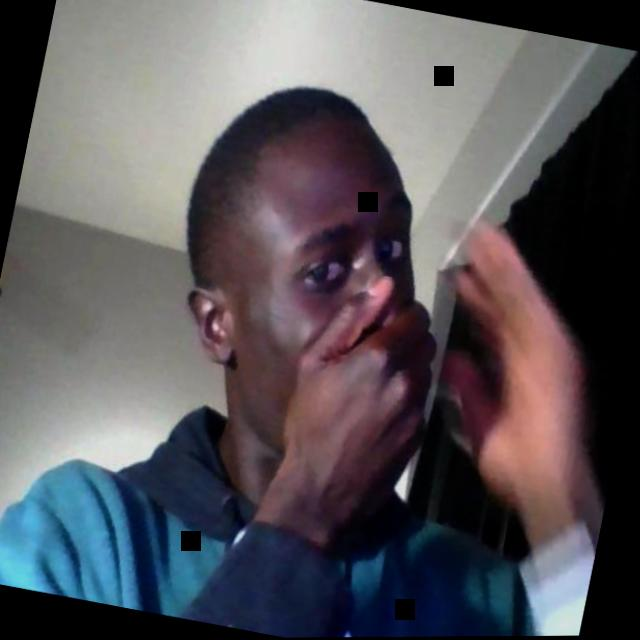NO-Mask: (212, 129, 436, 472)
